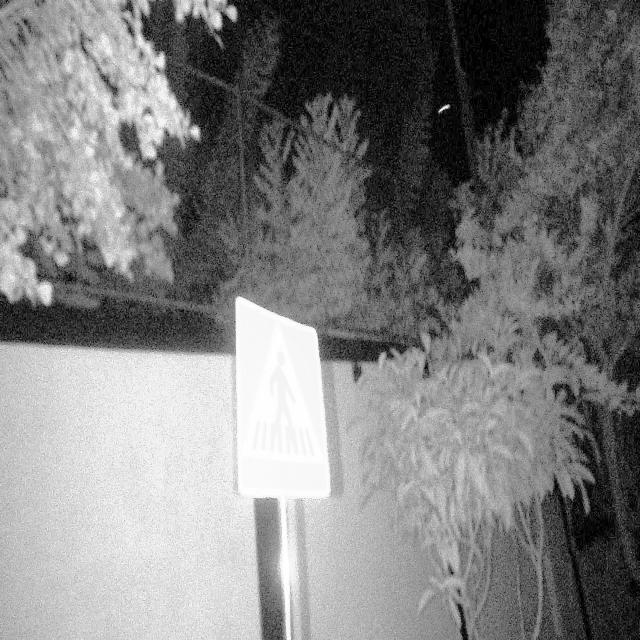Sign: (233, 293, 333, 501)
